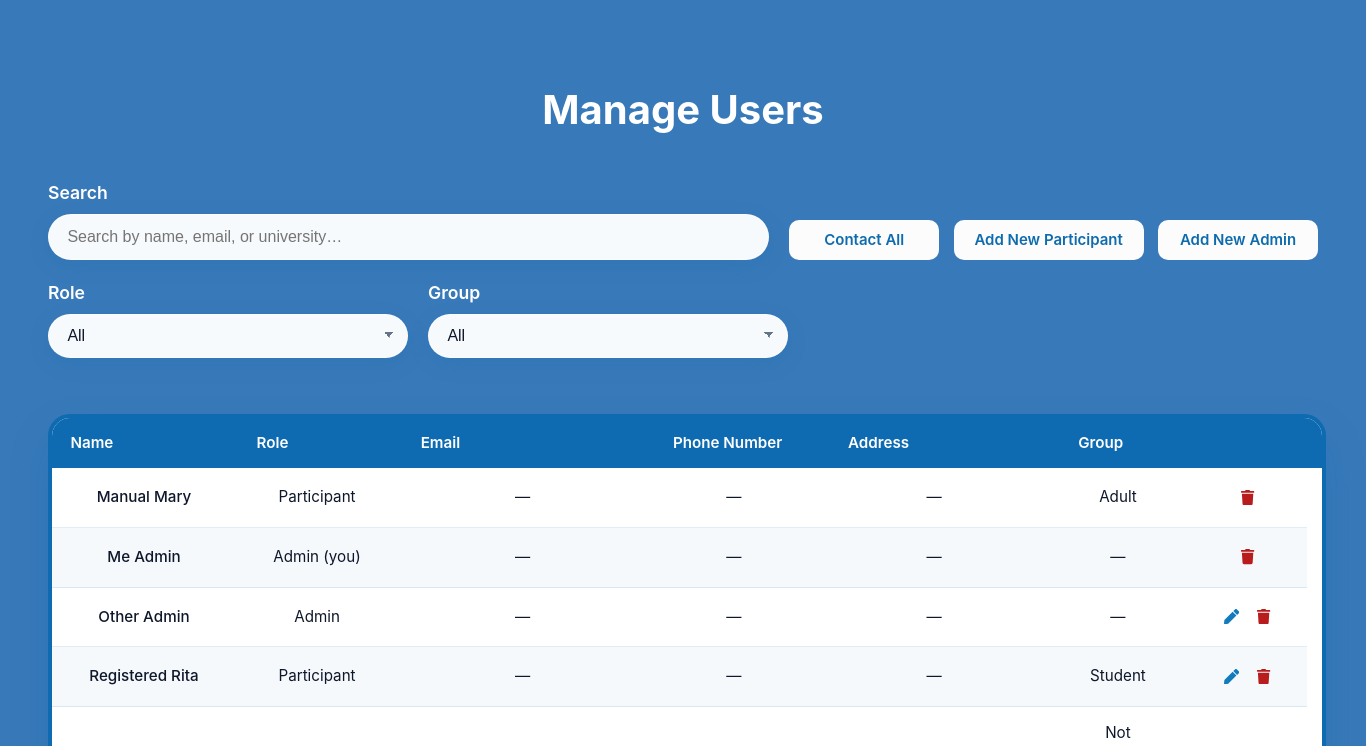
Manage Users role select › adds the signups-closed warning when registration is closed
The image size is (1366, 746).
Click the button named "Change role for Other Admin": (1232, 617) top-left (1218, 603), bottom-right (1246, 631)
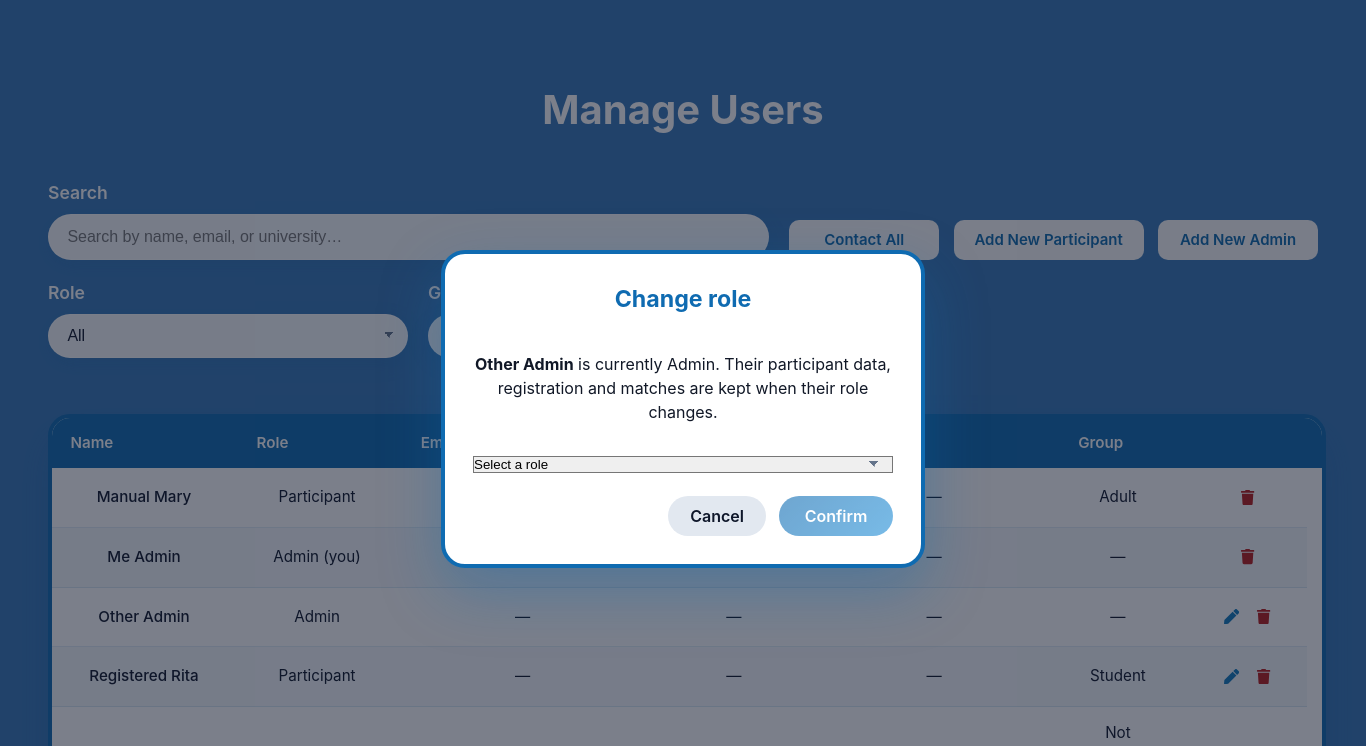
Select "Participant" in the dropdown named "New role": (683, 465) top-left (473, 456), bottom-right (893, 473)
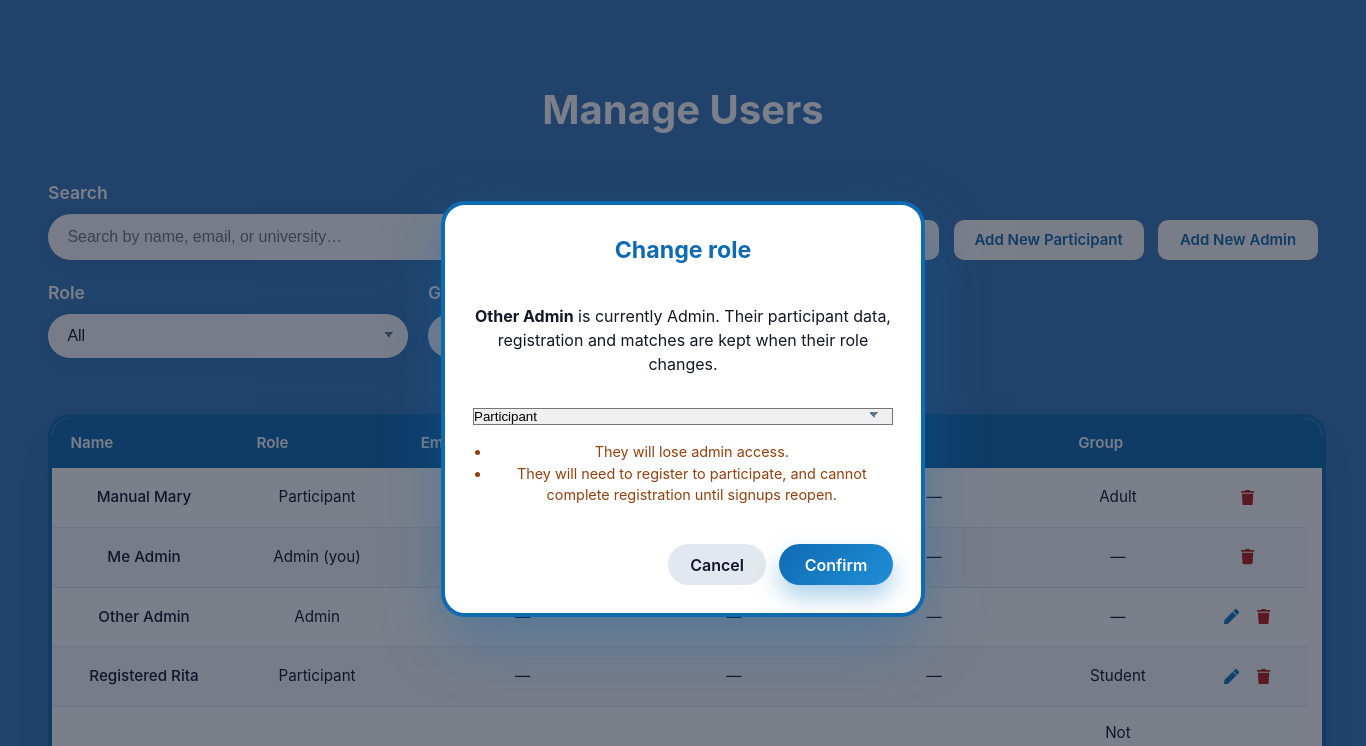
Expected: the list item "cannot complete registration until signups reopen" is shown, top-left (517, 464), bottom-right (867, 503)
